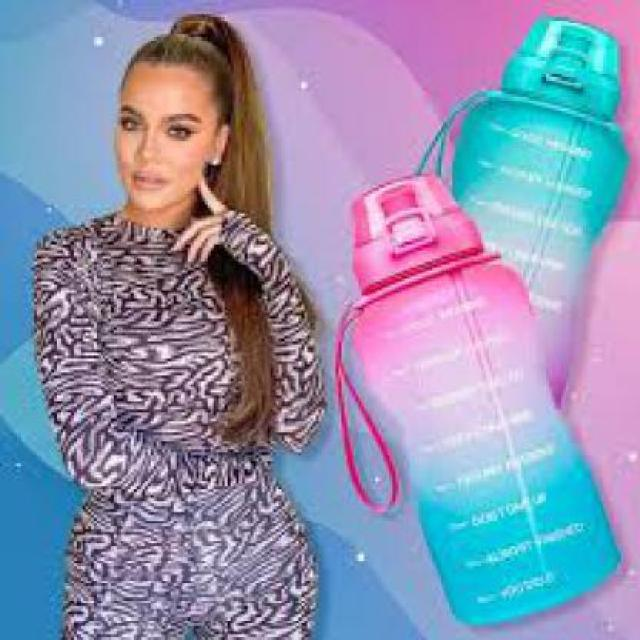Drinking: (315, 153, 603, 638)
